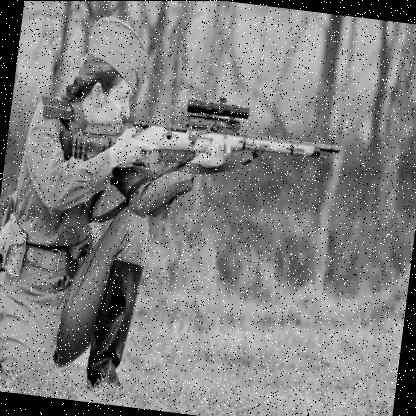rifle: (54, 83, 346, 213)
